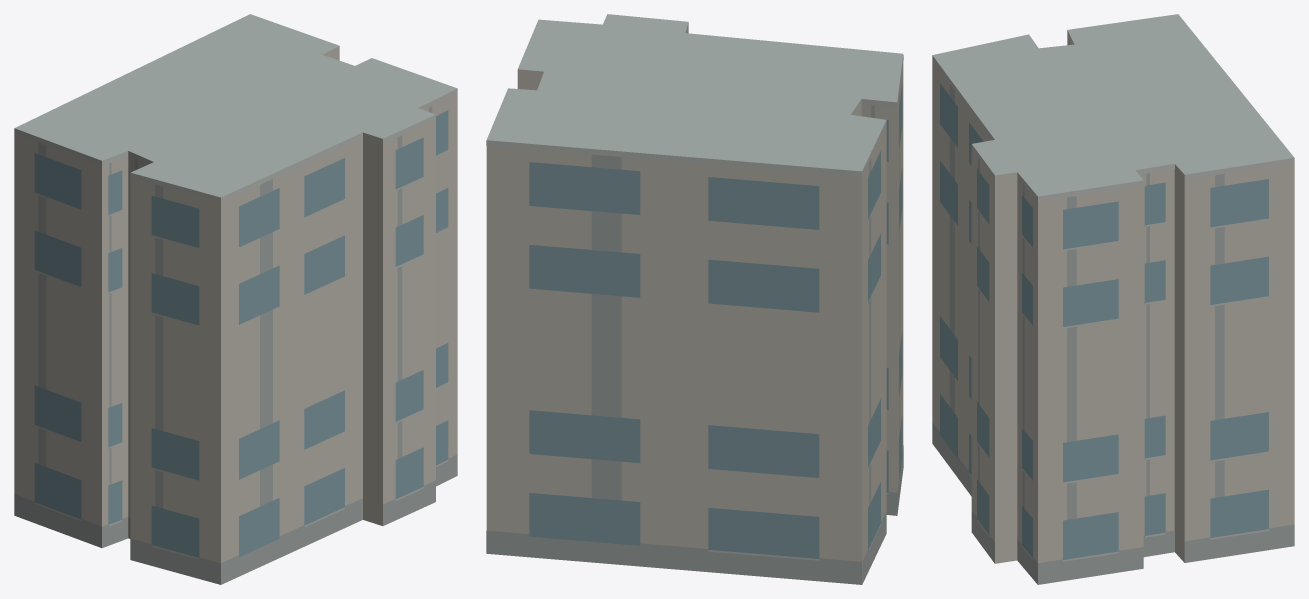
Rendered from survey-upis-32812947.glb.
3 views of the same model, side by side, from view 1: azimuth 30°, elevation 25°; view 2: azimuth 150°, elevation 25°; view 3: azimuth 270°, elevation 25° (orthographic). The views are drawn at different scales.
Parts seen in each view (by area): view 1: survey-upis-32812947.tmp; view 2: survey-upis-32812947.tmp; view 3: survey-upis-32812947.tmp.
Boxes of the visible parts, left/top/right/bottom form: survey-upis-32812947.tmp: left=14, top=14, right=457, bottom=584; survey-upis-32812947.tmp: left=486, top=14, right=903, bottom=584; survey-upis-32812947.tmp: left=932, top=14, right=1294, bottom=584.
Size of the model in its own units: 18.21 by 18.05 by 15.27.
